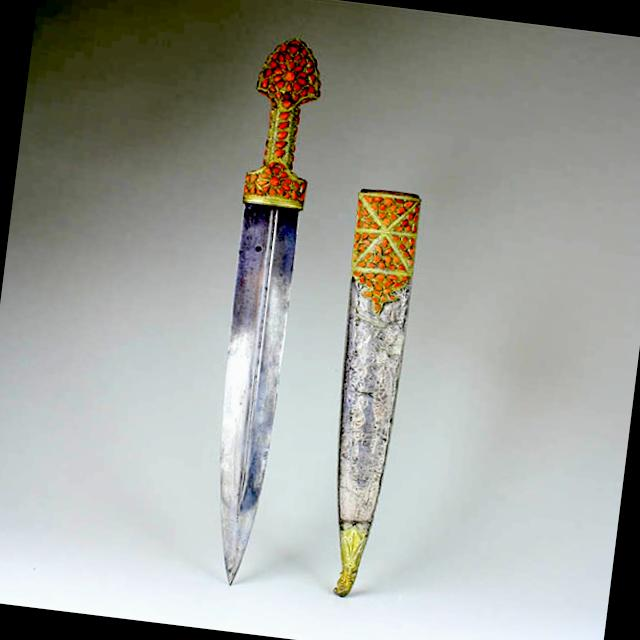short sword: (183, 16, 470, 625)
